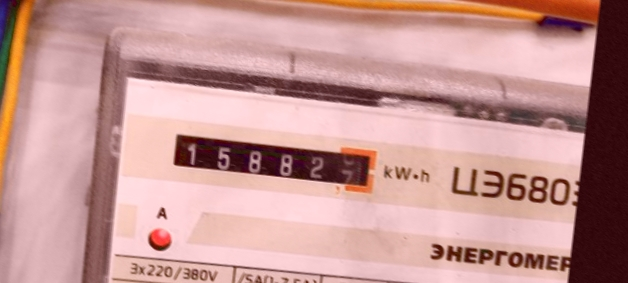1: (186, 140, 201, 167)
2: (309, 154, 328, 181)
5: (217, 144, 233, 172)
7: (340, 166, 357, 185)
8: (247, 148, 266, 174), (279, 151, 297, 178)
screen: (163, 121, 387, 203)
